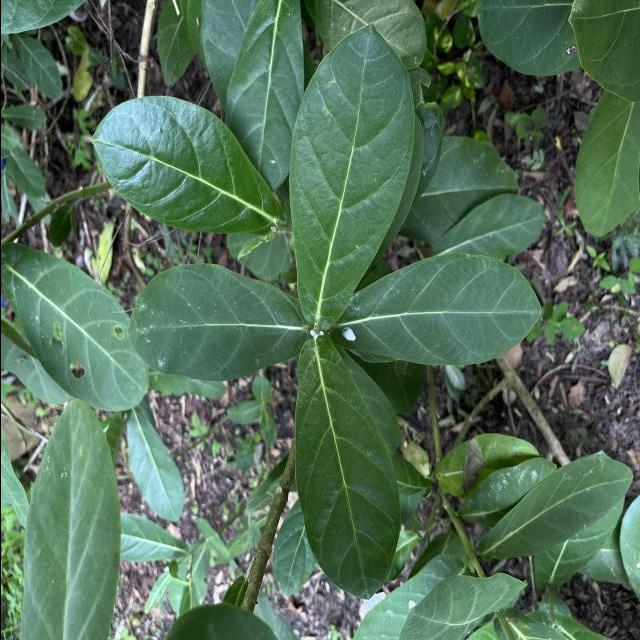Calotropis gigantea: (286, 21, 416, 332), (292, 336, 402, 602), (89, 93, 283, 236), (0, 243, 150, 412), (328, 250, 544, 367), (126, 262, 306, 384)
